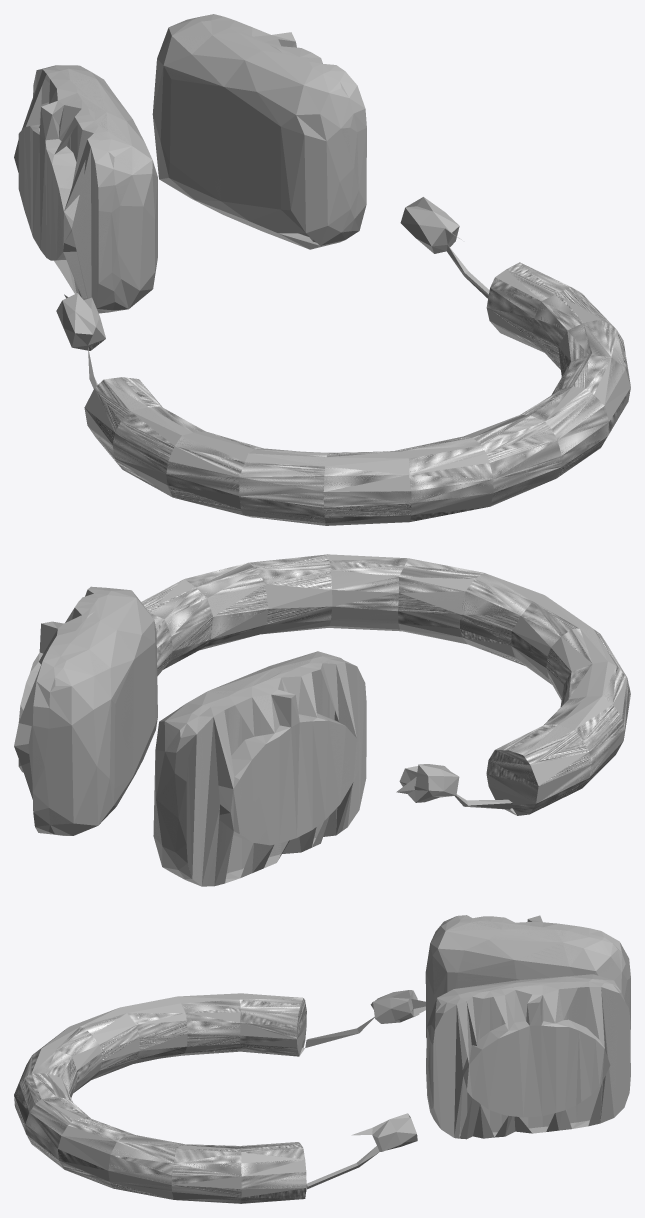
Rendered from model_align.obj.
3 views of the same model, one above another, from view 1: azimuth 30°, elevation 25°; view 2: azimuth 150°, elevation 25°; view 3: azimuth 270°, elevation 25° (orthographic). The views are drawn at different scales.
Size of the model in its own units: 0.1138 by 0.0513 by 0.1581.
